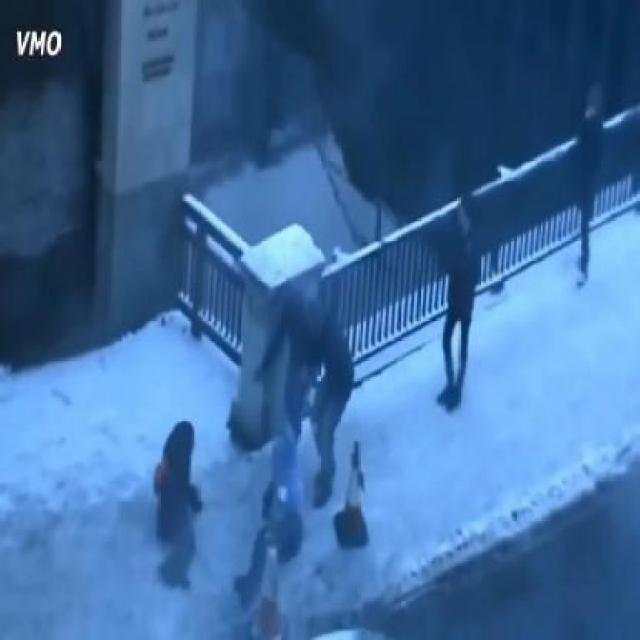fall: (239, 402, 306, 607), (150, 401, 205, 594)
